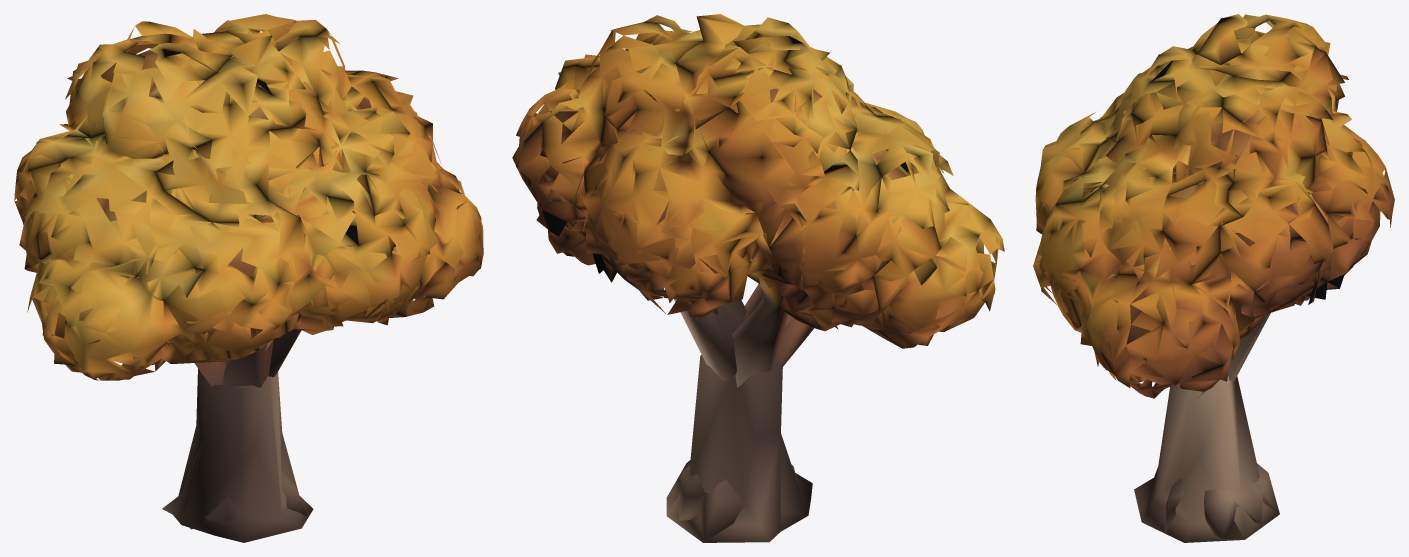
The model's file is oak.glb.
3 views of the same model, side by side, from view 1: azimuth 30°, elevation 25°; view 2: azimuth 150°, elevation 25°; view 3: azimuth 270°, elevation 25° (orthographic). The views are drawn at different scales.
Parts seen in each view (by area): view 1: oak; view 2: oak; view 3: oak.
Part boxes in pixels (box(x1,y1,x2,y2)): oak: box(14, 14, 483, 542); oak: box(512, 14, 1004, 542); oak: box(1033, 14, 1394, 542).
Size of the model in its own units: 6.96 by 7.37 by 5.18.
